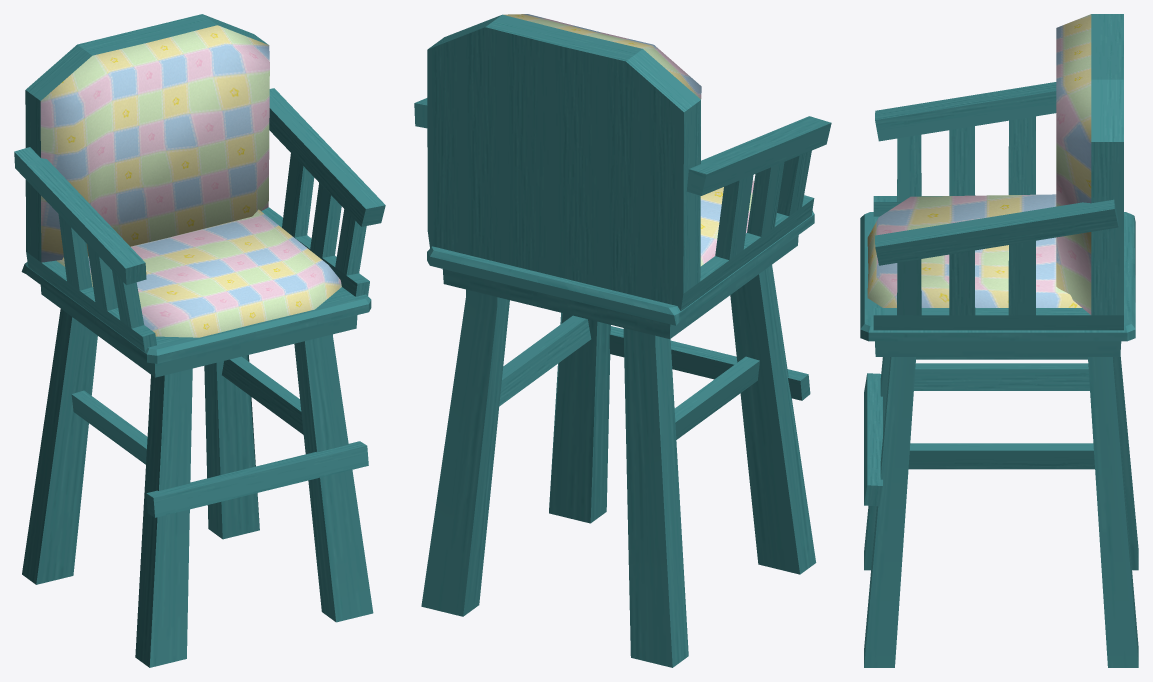
The model's file is High_Chair_B.FBX.
The picture shows the model from 3 angles, left to right: view 1: azimuth 30°, elevation 25°; view 2: azimuth 150°, elevation 25°; view 3: azimuth 270°, elevation 25°; orthographic projection. The views are drawn at different scales.
Parts seen in each view (by area): view 1: High_Chair; view 2: High_Chair; view 3: High_Chair.
Boxes of the visible parts, bbox=[...] form: High_Chair: bbox=[14, 14, 385, 667]; High_Chair: bbox=[414, 14, 831, 667]; High_Chair: bbox=[860, 14, 1138, 667].
Bounding box in the file's own units: 139 × 268 × 120.
